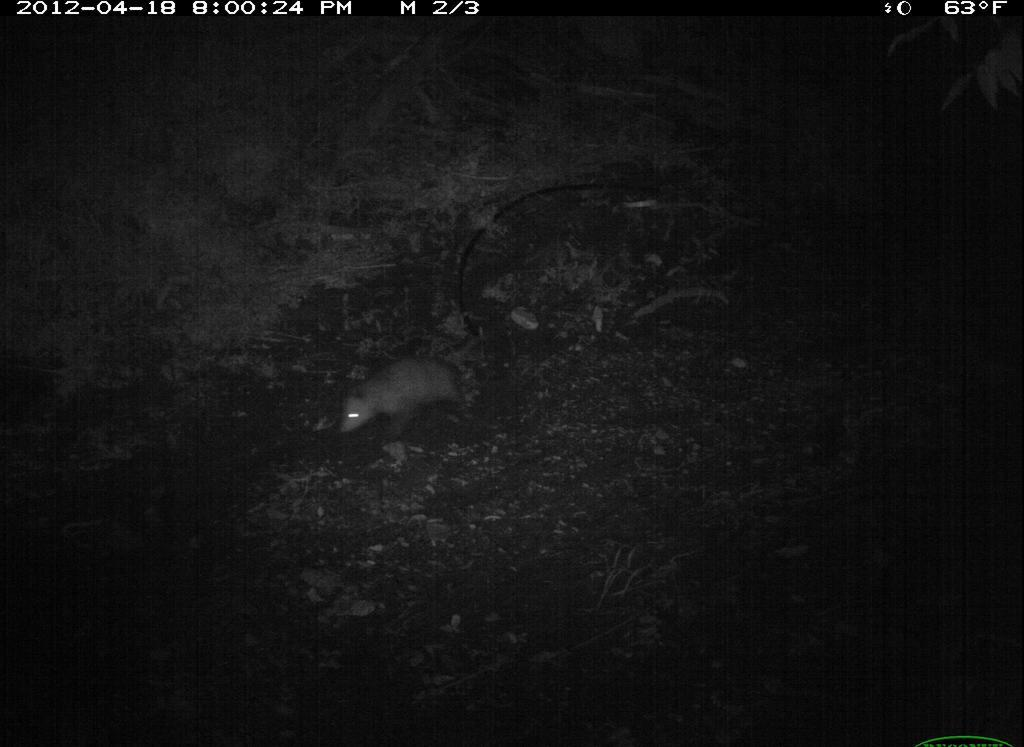opossum: (336, 346, 481, 446)
